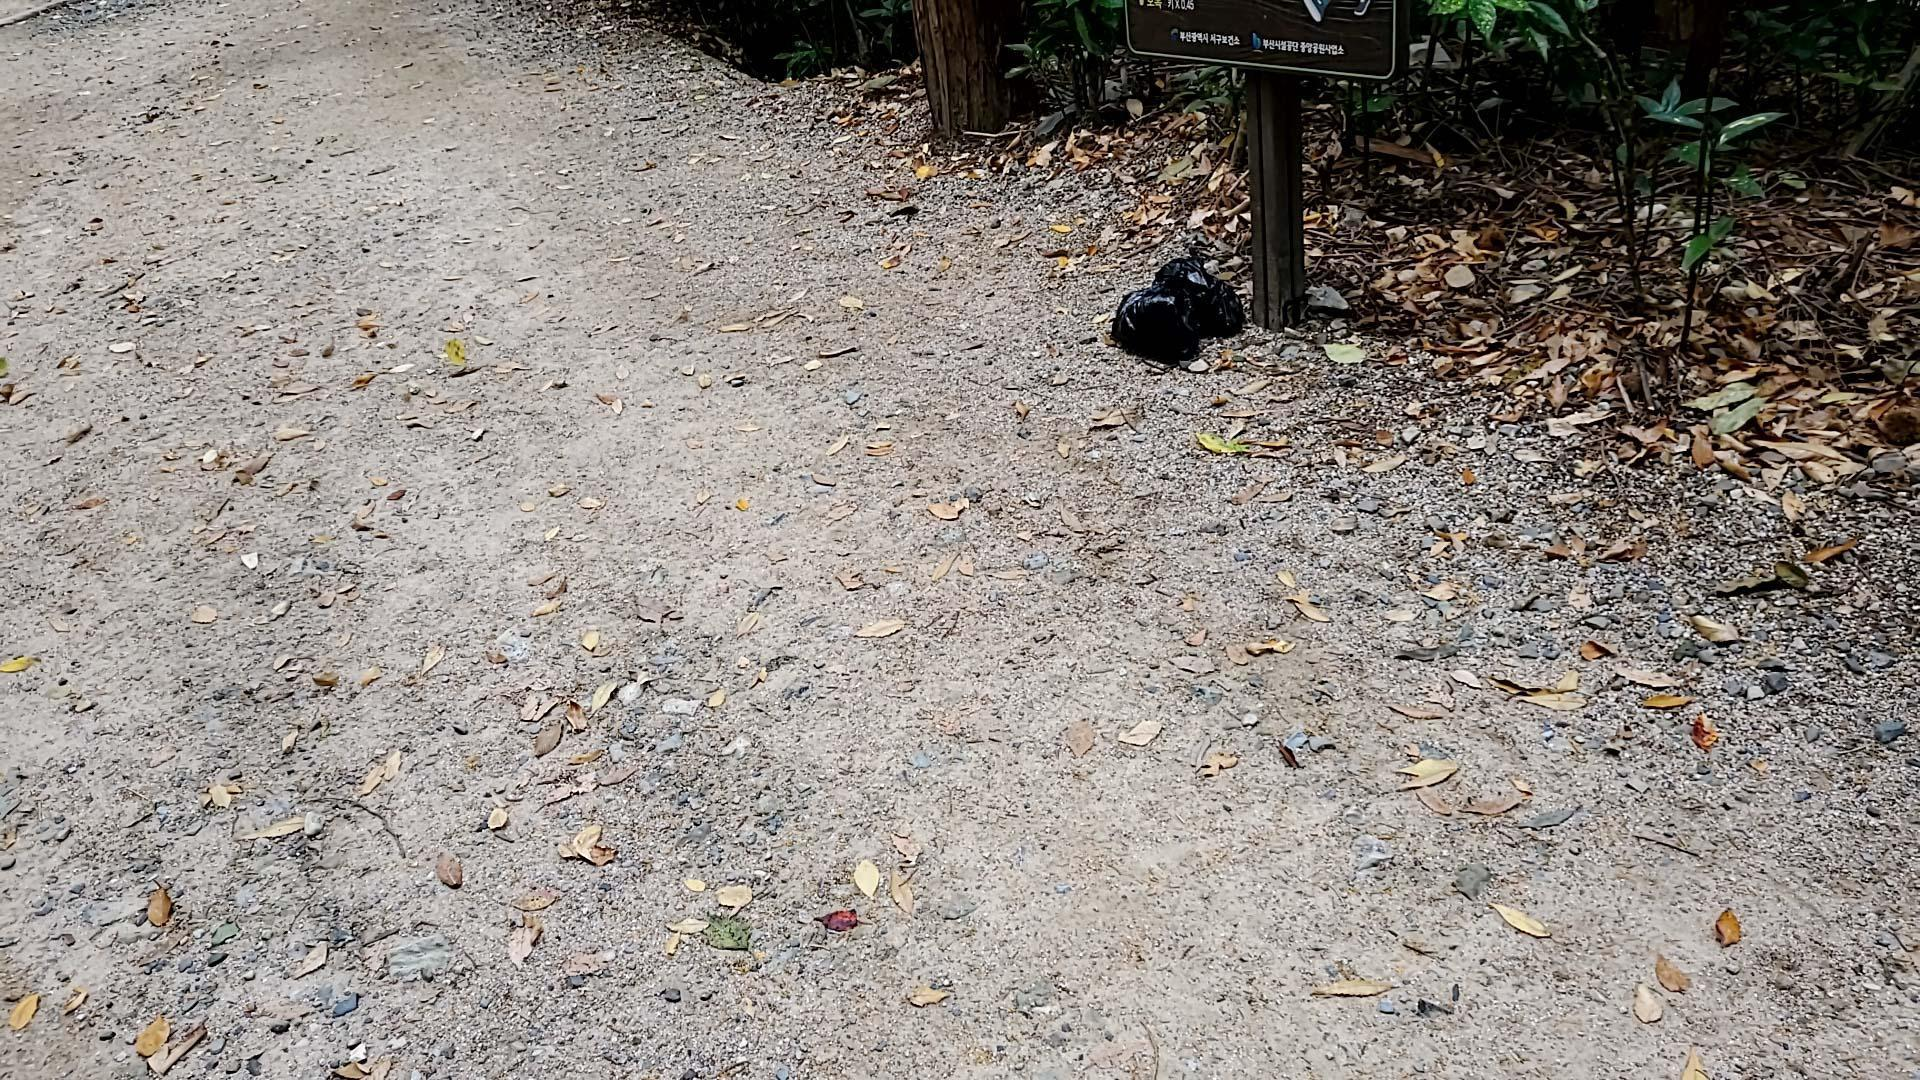black_bag: (1093, 248, 1262, 373)
